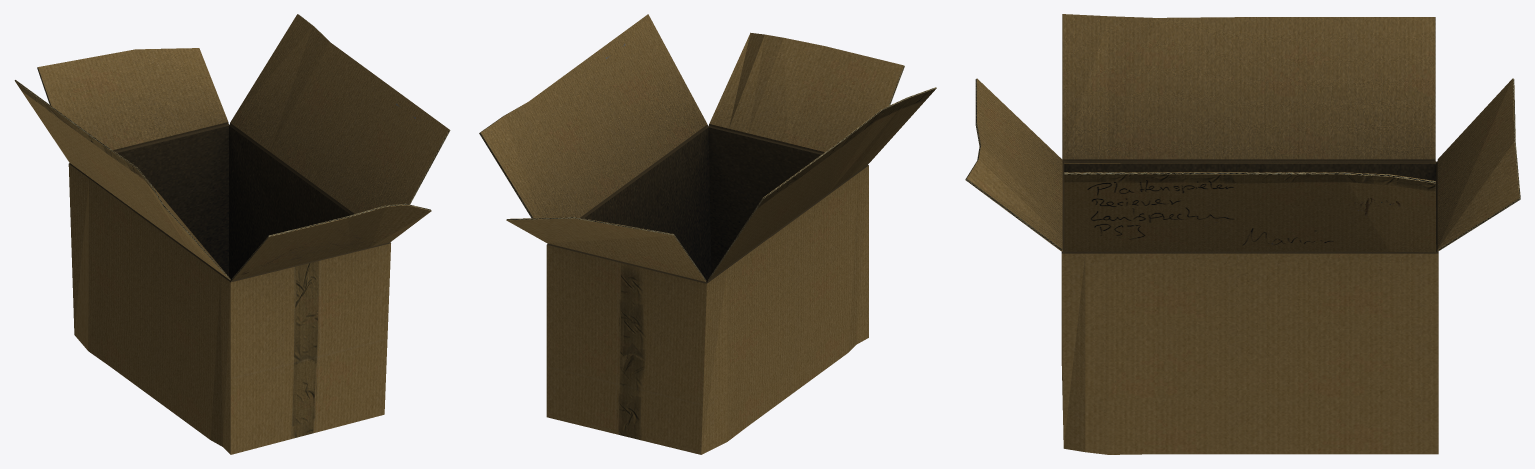
Rendered from box_opened_damaged.obj.
3 renders of one model, left to right at view 1: azimuth 30°, elevation 25°; view 2: azimuth 150°, elevation 25°; view 3: azimuth 270°, elevation 25°, orthographic. The views are drawn at different scales.
Parts seen in each view (by area): view 1: Cube; view 2: Cube; view 3: Cube.
Boxes of the visible parts, bbox=[...] form: Cube: bbox=[14, 14, 450, 454]; Cube: bbox=[479, 14, 936, 454]; Cube: bbox=[965, 14, 1520, 454].
Bounding box in the file's own units: 3.71 × 3.23 × 5.16.
